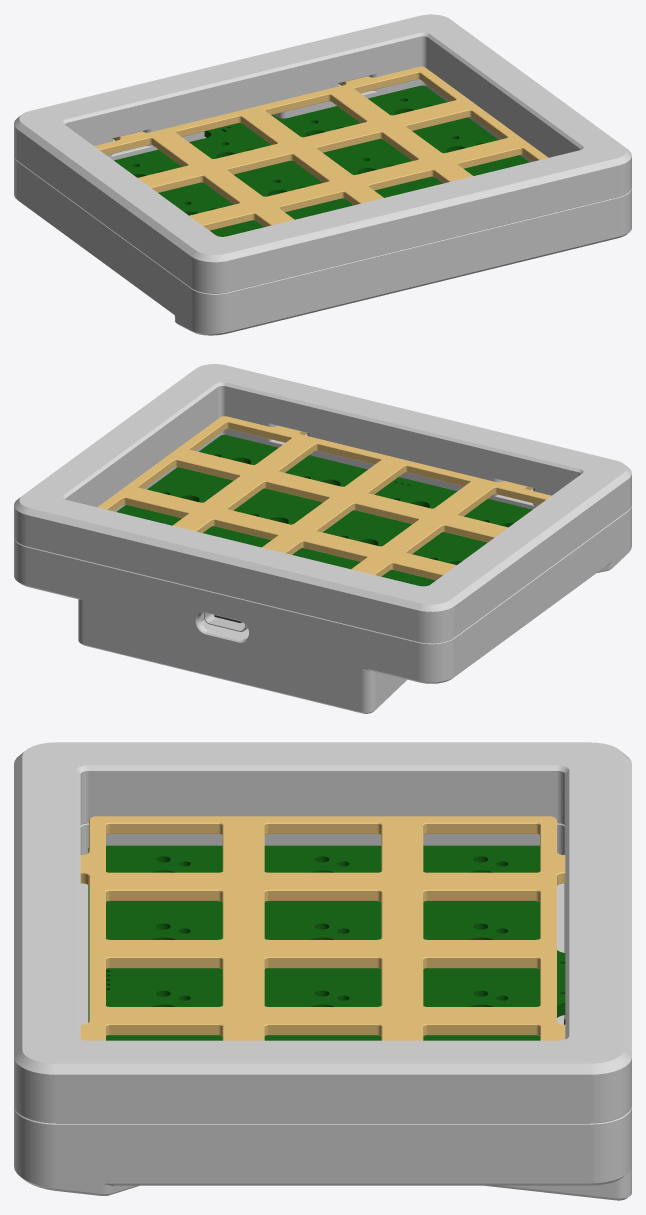
File: twelvekey.fbx
3 views of the same model, one above another, from view 1: azimuth 30°, elevation 25°; view 2: azimuth 150°, elevation 25°; view 3: azimuth 270°, elevation 25° (orthographic). The views are drawn at different scales.
Visible parts, largest first — view 1: Top, Bottom, Plate, Body1; view 2: Top, Bottom, Plate, Body1; view 3: Top, Plate, Bottom, Body1.
Boxes of the visible parts, x1,y1,x2,y2 form: Top: [14, 14, 631, 293]; Bottom: [14, 79, 631, 335]; Plate: [94, 66, 548, 230]; Body1: [114, 85, 529, 236]; Top: [14, 364, 631, 643]; Bottom: [14, 429, 631, 713]; Plate: [97, 416, 551, 580]; Body1: [116, 435, 532, 586]; Top: [14, 742, 631, 1123]; Plate: [80, 816, 565, 1040]; Bottom: [14, 823, 631, 1200]; Body1: [88, 845, 565, 1040].
Bounding box in the file's own units: 93.2 × 25.04 × 74.15.
